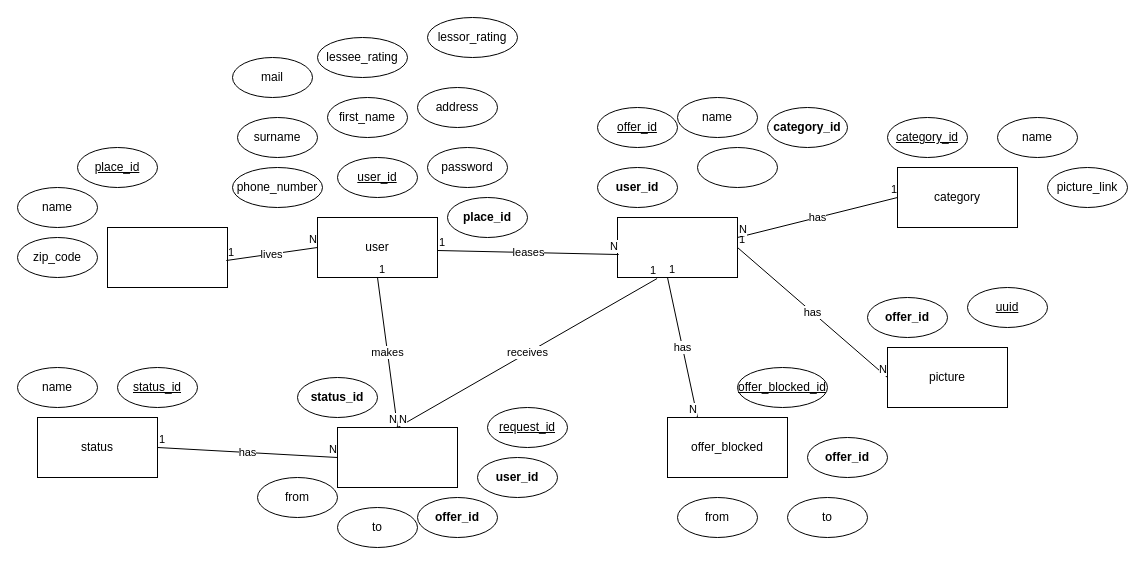
This 1145x565 diagram has some shape labels left out. Here are the shapes that lost their labels. From the top down, the centre of each, then its label:
the point at 737,167: price
the point at 167,257: place
the point at 677,247: offer
the point at 397,457: request
